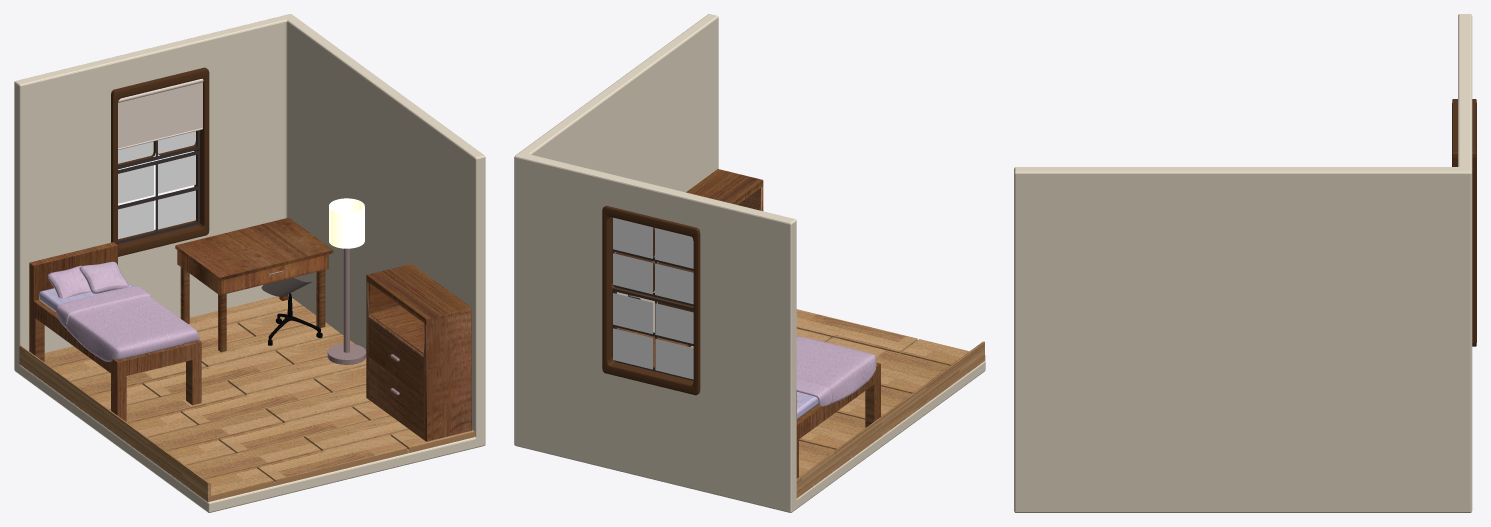
Rendered from dorm_room5.4eb83b25.glb.
3 renders of one model, left to right at view 1: azimuth 30°, elevation 25°; view 2: azimuth 150°, elevation 25°; view 3: azimuth 270°, elevation 25°, orthographic. The views are drawn at different scales.
Parts seen in each view (by area): view 1: Walls; view 2: Walls; view 3: Walls.
Boxes of the visible parts, bbox=[...] form: Walls: bbox=[14, 14, 485, 512]; Walls: bbox=[514, 14, 985, 512]; Walls: bbox=[1014, 14, 1476, 512].
Bounding box in the file's own units: 4 × 4 × 4.92.
Materials: 14 (5 with a texture image).
